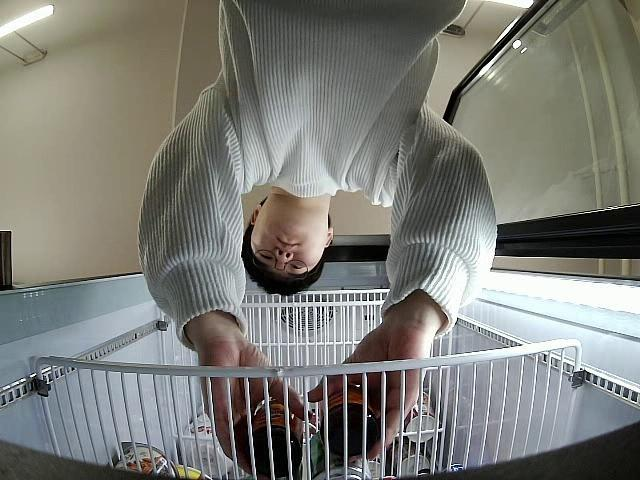17_vita500: (242, 402, 300, 476), (322, 388, 379, 458)
